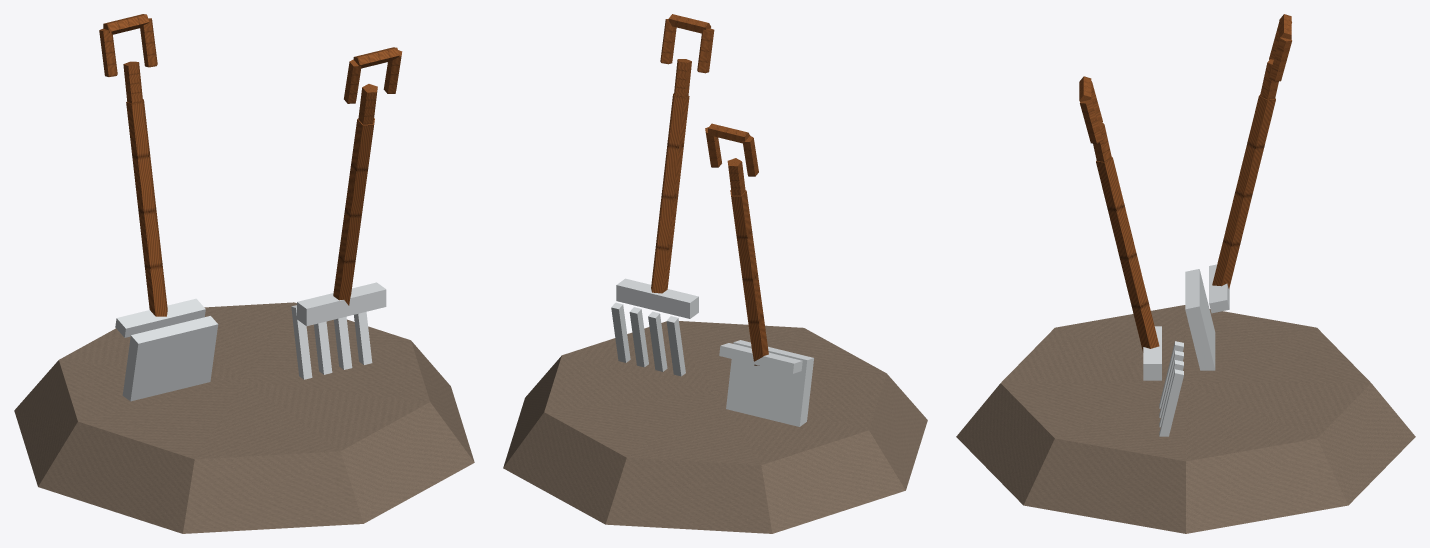
Rendered from allotments-and-community-garden-fork-and-spade-in-eart-15a62afc__35155.glb.
3 renders of one model, left to right at view 1: azimuth 30°, elevation 25°; view 2: azimuth 150°, elevation 25°; view 3: azimuth 270°, elevation 25°, orthographic. The views are drawn at different scales.
Visible parts, largest first — view 1: fork-and-spade-in-earth-soil, fork-and-spade-in-earth-galv, fork-and-spade-in-earth-timber; view 2: fork-and-spade-in-earth-soil, fork-and-spade-in-earth-galv, fork-and-spade-in-earth-timber; view 3: fork-and-spade-in-earth-soil, fork-and-spade-in-earth-timber, fork-and-spade-in-earth-galv.
Boxes of the visible parts, left/top/right/bottom form: fork-and-spade-in-earth-soil: left=14, top=302, right=474, bottom=533; fork-and-spade-in-earth-galv: left=115, top=282, right=386, bottom=401; fork-and-spade-in-earth-timber: left=99, top=14, right=402, bottom=316; fork-and-spade-in-earth-soil: left=503, top=321, right=927, bottom=533; fork-and-spade-in-earth-galv: left=611, top=278, right=813, bottom=426; fork-and-spade-in-earth-timber: left=651, top=14, right=768, bottom=365; fork-and-spade-in-earth-soil: left=956, top=305, right=1415, bottom=533; fork-and-spade-in-earth-timber: left=1079, top=14, right=1291, bottom=352; fork-and-spade-in-earth-galv: left=1143, top=264, right=1229, bottom=436.
Size of the model in its own units: 1.24 by 1.16 by 1.24.
Materials: 3 (2 with a texture image).
